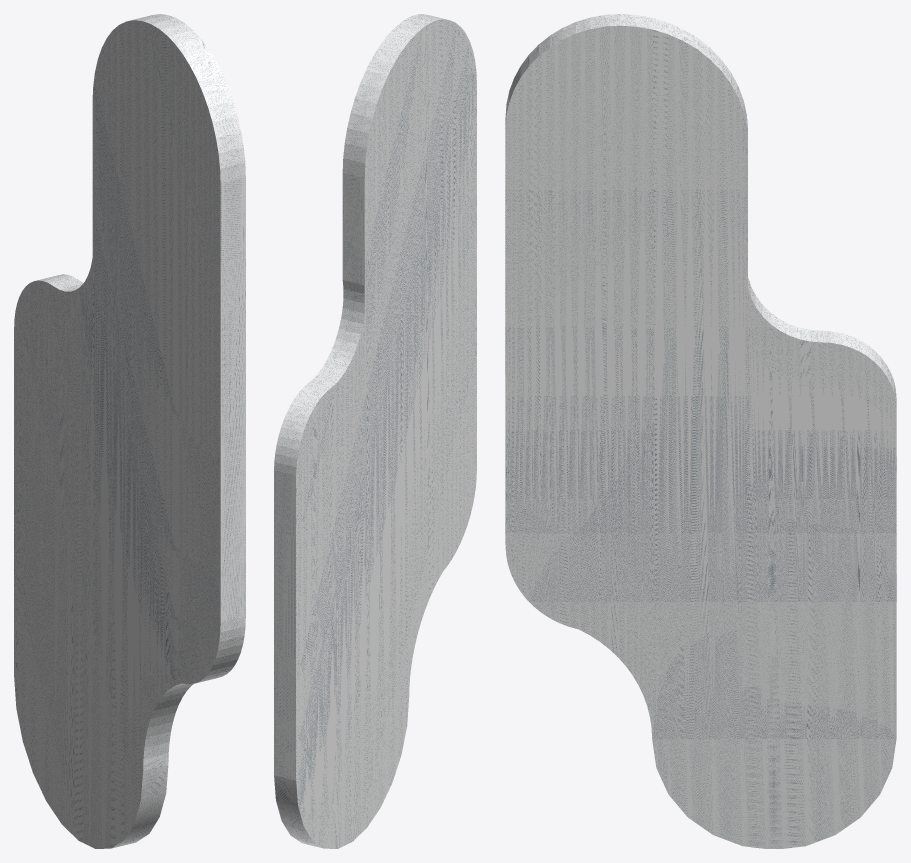
The model's file is senti-mesh-sad-2.dae.
The picture shows the model from 3 angles, left to right: view 1: azimuth 30°, elevation 25°; view 2: azimuth 150°, elevation 25°; view 3: azimuth 270°, elevation 25°; orthographic projection. The views are drawn at different scales.
Parts seen in each view (by area): view 1: group_0; view 2: group_0; view 3: group_0.
Part boxes in pixels (box(x1,y1,x2,y2)): group_0: box(14, 14, 245, 848); group_0: box(274, 14, 476, 848); group_0: box(505, 14, 896, 848).
Bounding box in the file's own units: 0.405 × 5.73 × 13.34.
